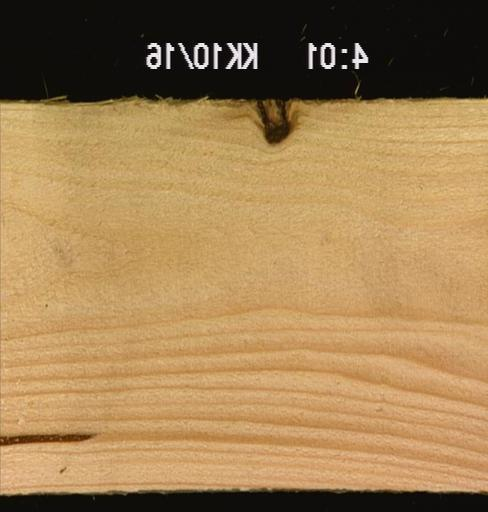edge_knot: (250, 98, 303, 144)
